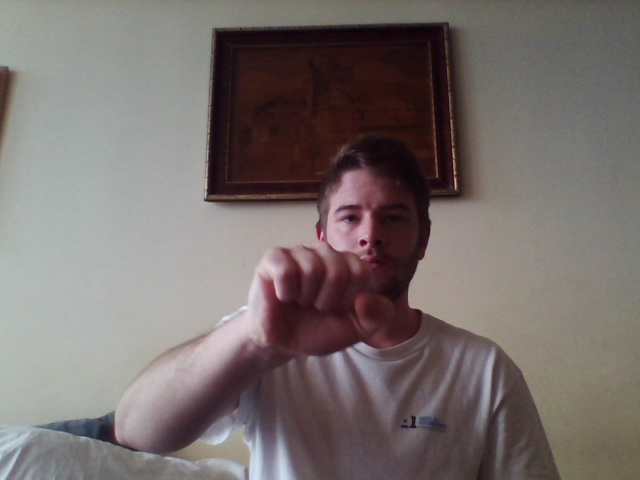da: (249, 245, 396, 358)
